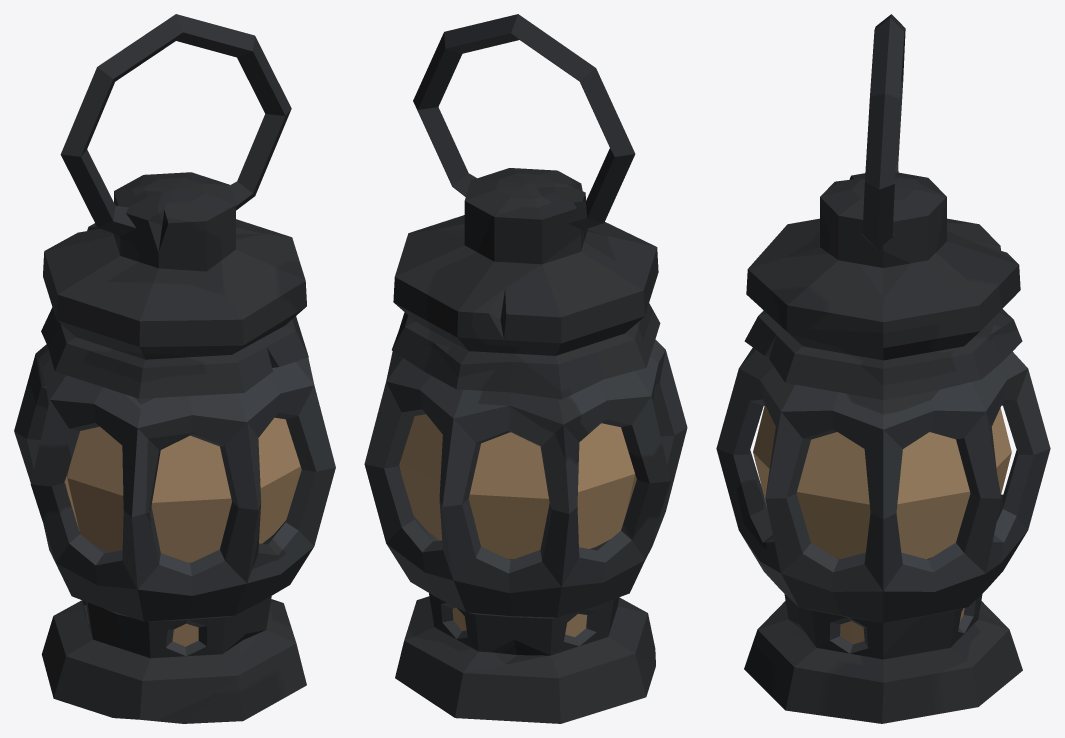
File: SM_Prop_Lantern_03.fbx
3 views of the same model, side by side, from view 1: azimuth 30°, elevation 25°; view 2: azimuth 150°, elevation 25°; view 3: azimuth 270°, elevation 25° (orthographic).
Parts seen in each view (by area): view 1: SM_Prop_Lantern_03; view 2: SM_Prop_Lantern_03; view 3: SM_Prop_Lantern_03.
Part boxes in pixels (x1,y1,x2,y2): SM_Prop_Lantern_03: (14, 14, 335, 723); SM_Prop_Lantern_03: (364, 14, 687, 723); SM_Prop_Lantern_03: (716, 14, 1050, 723).
Bounding box in the file's own units: 24.73 × 53.41 × 24.73.
